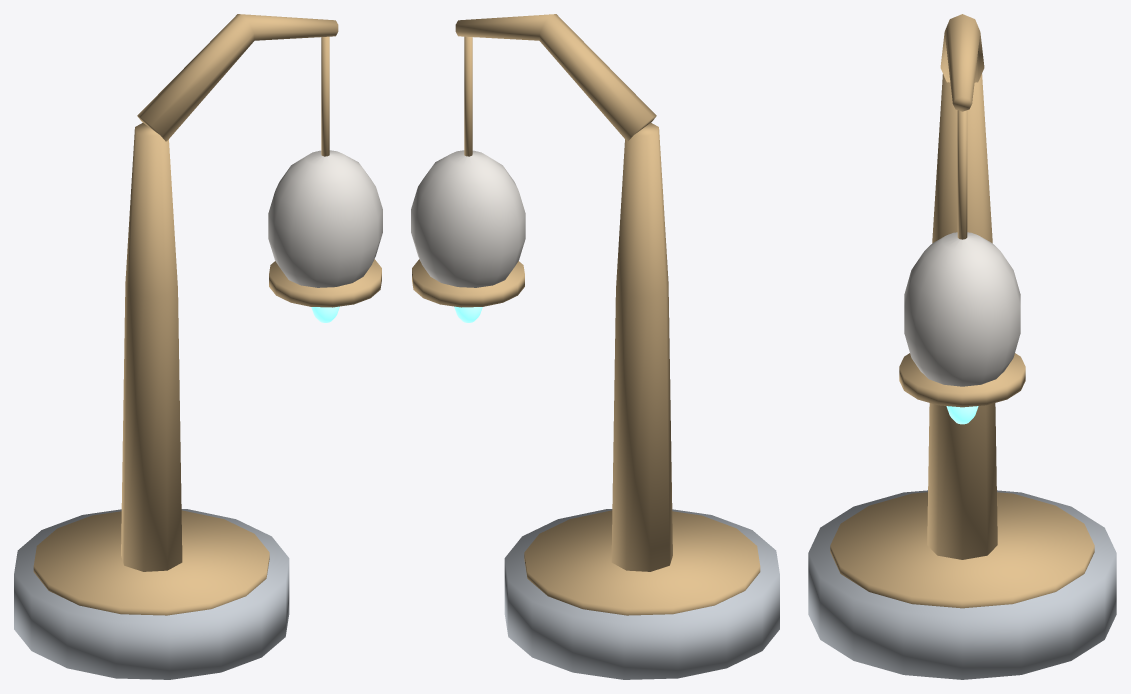
The model's file is prp_choral_bellpost.glb.
3 views of the same model, side by side, from view 1: azimuth 30°, elevation 25°; view 2: azimuth 150°, elevation 25°; view 3: azimuth 270°, elevation 25° (orthographic). The views are drawn at different scales.
Parts seen in each view (by area): view 1: PRP_choral_bellpost_upright, PRP_choral_bellpost_foot, PRP_choral_bellpost_gold_ring, PRP_choral_bellpost_bellform, PRP_choral_bellpost_crook, PRP_choral_bellpost_bell_lip, PRP_choral_bellpost_chain; view 2: PRP_choral_bellpost_upright, PRP_choral_bellpost_foot, PRP_choral_bellpost_gold_ring, PRP_choral_bellpost_bellform, PRP_choral_bellpost_crook, PRP_choral_bellpost_bell_lip, PRP_choral_bellpost_chain; view 3: PRP_choral_bellpost_foot, PRP_choral_bellpost_gold_ring, PRP_choral_bellpost_upright, PRP_choral_bellpost_bellform, PRP_choral_bellpost_bell_lip, PRP_choral_bellpost_crook, PRP_choral_bellpost_chain.
Part boxes in pixels (x1,y1,x2,y2): PRP_choral_bellpost_upright: (121, 123, 182, 571); PRP_choral_bellpost_foot: (14, 509, 289, 679); PRP_choral_bellpost_gold_ring: (33, 510, 269, 615); PRP_choral_bellpost_bellform: (268, 150, 382, 287); PRP_choral_bellpost_crook: (137, 14, 338, 141); PRP_choral_bellpost_bell_lip: (269, 259, 381, 307); PRP_choral_bellpost_chain: (321, 36, 329, 156); PRP_choral_bellpost_upright: (611, 123, 672, 571); PRP_choral_bellpost_foot: (504, 509, 779, 679); PRP_choral_bellpost_gold_ring: (524, 510, 760, 615); PRP_choral_bellpost_bellform: (411, 150, 525, 287); PRP_choral_bellpost_crook: (455, 14, 656, 141); PRP_choral_bellpost_bell_lip: (412, 259, 524, 307); PRP_choral_bellpost_chain: (464, 36, 472, 156); PRP_choral_bellpost_foot: (808, 490, 1116, 679); PRP_choral_bellpost_gold_ring: (830, 492, 1094, 608); PRP_choral_bellpost_upright: (927, 74, 997, 559); PRP_choral_bellpost_bellform: (904, 232, 1020, 386); PRP_choral_bellpost_bell_lip: (899, 353, 1025, 407); PRP_choral_bellpost_crook: (940, 14, 984, 111); PRP_choral_bellpost_chain: (957, 110, 967, 239).
Size of the model in its own units: 1.61 by 2.61 by 1.12.
